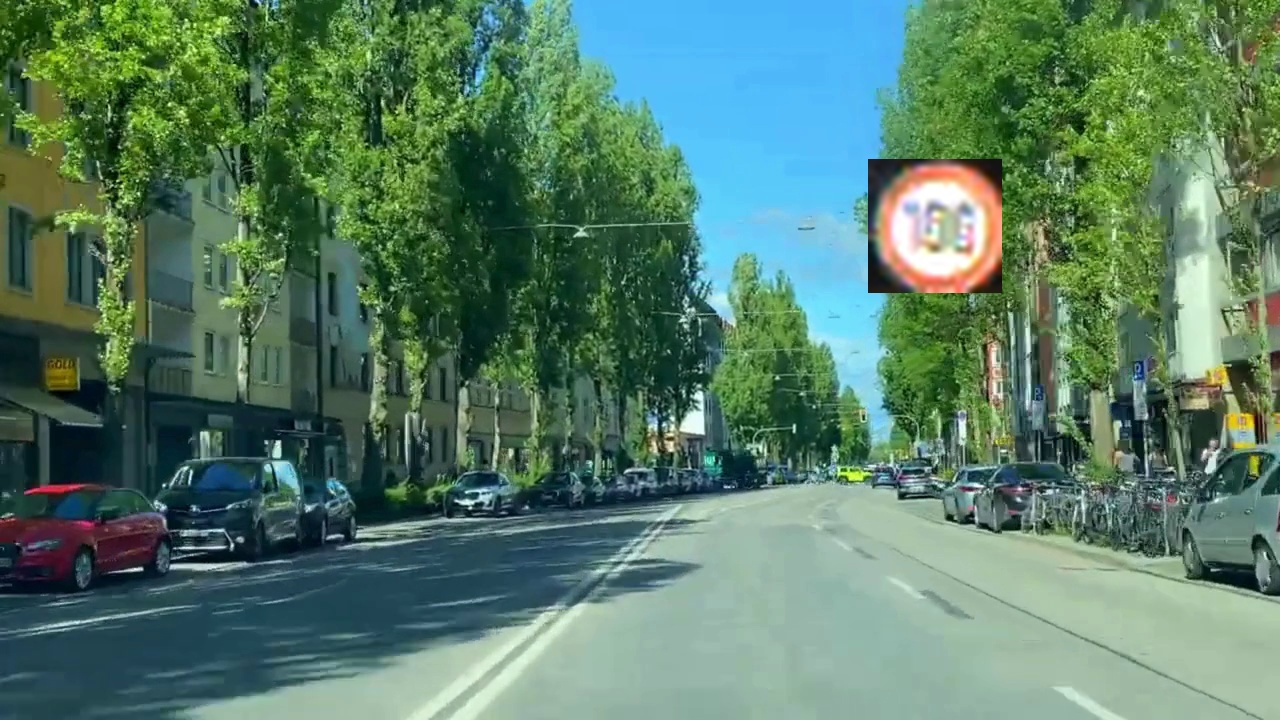Speed 100: (868, 159, 1002, 293)
